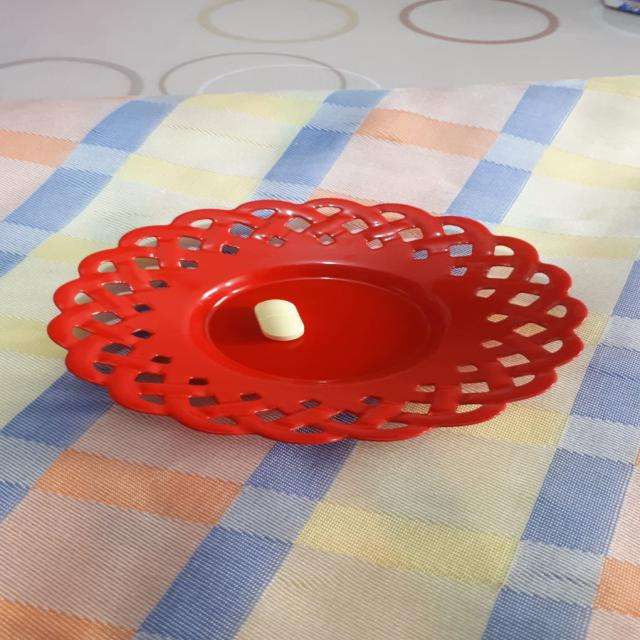pills: (230, 287, 318, 345)
